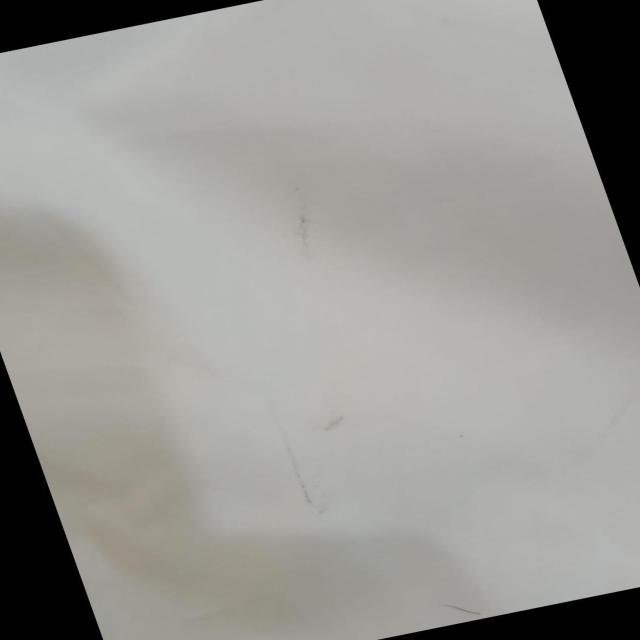stain: (253, 395, 396, 529), (264, 193, 348, 261)
